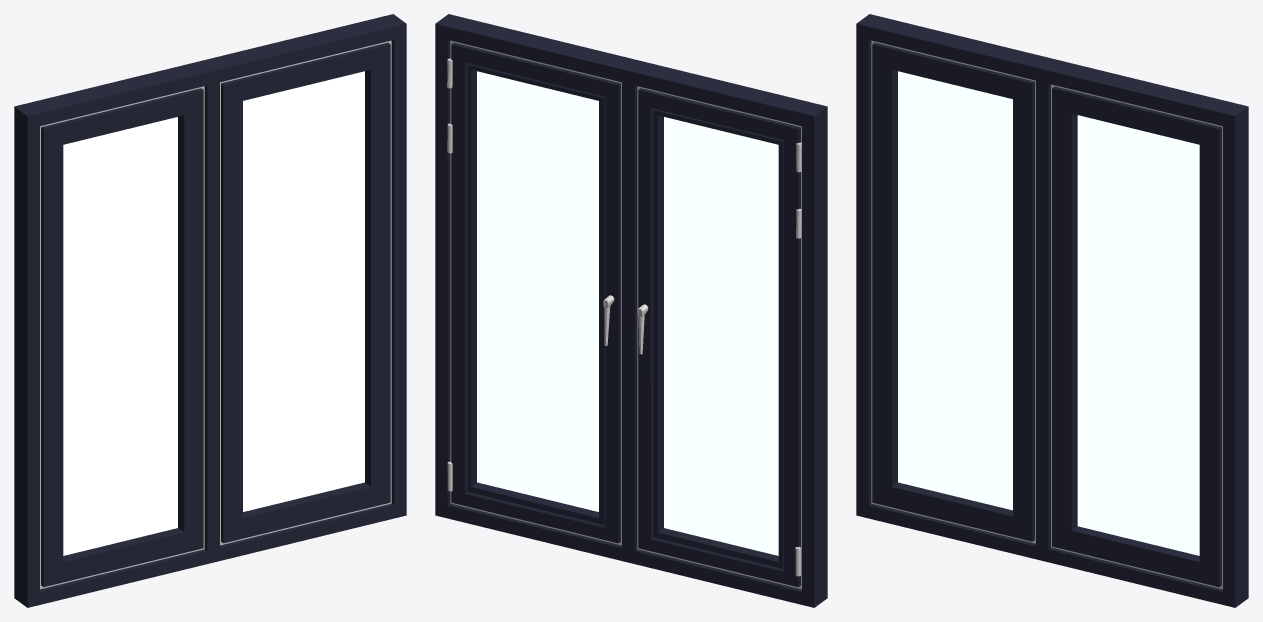
The model's file is Puerta.fbx.
3 renders of one model, left to right at view 1: azimuth 30°, elevation 25°; view 2: azimuth 150°, elevation 25°; view 3: azimuth 330°, elevation 25°, orthographic.
Parts seen in each view (by area): view 1: group245708010, group726169076, group271047292, group90051167, group1194249154, group1120995065, group2039086624, group1600475773, group477566908, group1373645603, group1466955722, group1378708829 (+7 smaller); view 2: group245708010, group726169076, group271047292, group1194249154, group90051167, group2039086624, group1120995065, group1600475773, group1373645603, group477566908, group1466955722, group1378708829 (+10 smaller); view 3: group245708010, group726169076, group477566908, group1120995065, group1600475773, group1194249154, group2039086624, group90051167, group271047292, group1373645603, group1466955722, group1324916289 (+6 smaller).
Part boxes in pixels (x1,y1,x2,y2): group245708010: (243, 71, 364, 511); group726169076: (63, 117, 177, 555); group271047292: (14, 103, 39, 607); group90051167: (178, 88, 203, 535); group1194249154: (365, 42, 390, 507); group1120995065: (41, 122, 63, 587); group2039086624: (16, 14, 406, 128); group1600475773: (221, 78, 242, 526); group477566908: (391, 25, 406, 505); group1373645603: (204, 82, 219, 556); group1466955722: (40, 502, 406, 604); group1378708829: (221, 482, 370, 543); group245708010: (477, 71, 598, 511); group726169076: (664, 117, 778, 555); group271047292: (802, 103, 827, 607); group1194249154: (451, 42, 476, 502); group90051167: (638, 88, 663, 532); group2039086624: (435, 14, 825, 126); group1120995065: (778, 122, 800, 587); group1600475773: (599, 78, 620, 526); group1373645603: (622, 75, 637, 556); group477566908: (435, 37, 450, 518); group1466955722: (447, 503, 801, 604); group1378708829: (453, 482, 620, 543); group245708010: (1077, 115, 1199, 555); group726169076: (898, 71, 1012, 510); group477566908: (1223, 108, 1248, 607); group1120995065: (872, 42, 897, 507); group1600475773: (1052, 86, 1077, 534); group1194249154: (1199, 122, 1221, 587); group2039086624: (858, 15, 1248, 126); group90051167: (1013, 77, 1034, 524); group271047292: (856, 14, 881, 518); group1373645603: (1036, 80, 1050, 554); group1466955722: (868, 503, 1248, 607); group1324916289: (1053, 89, 1219, 149).
Bounding box in the file's own units: 213 × 264 × 19.28.
